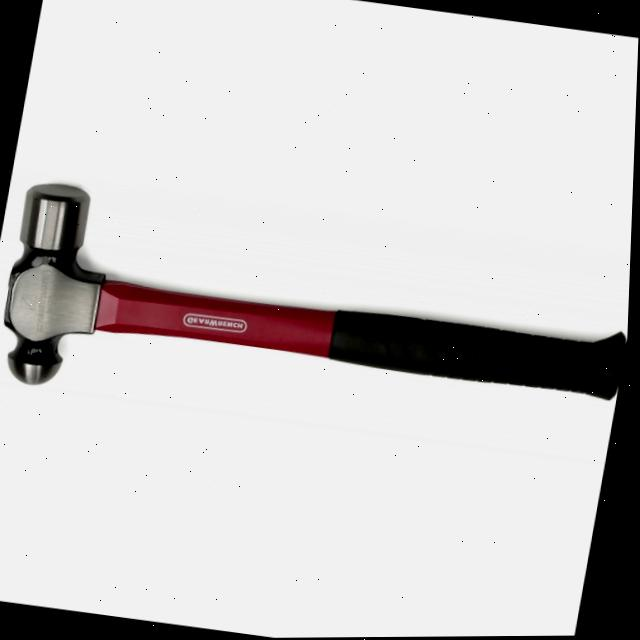hammer: (0, 161, 635, 474)
